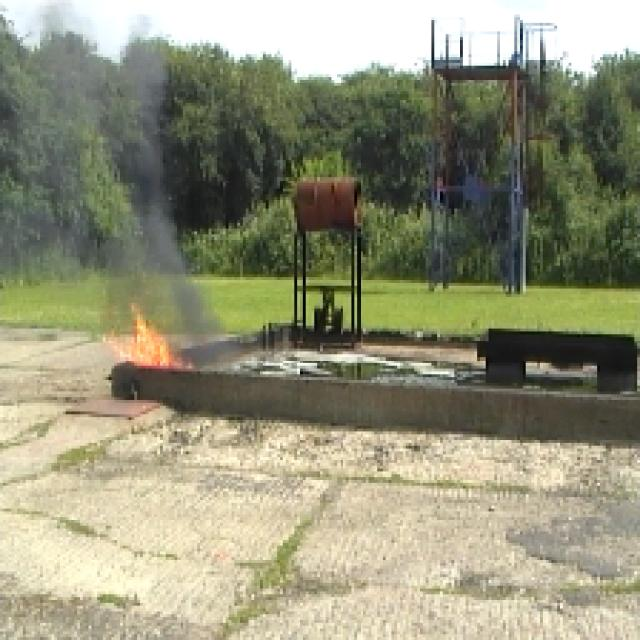fire: (114, 310, 173, 366)
smoke: (41, 4, 180, 264), (181, 281, 241, 378)
